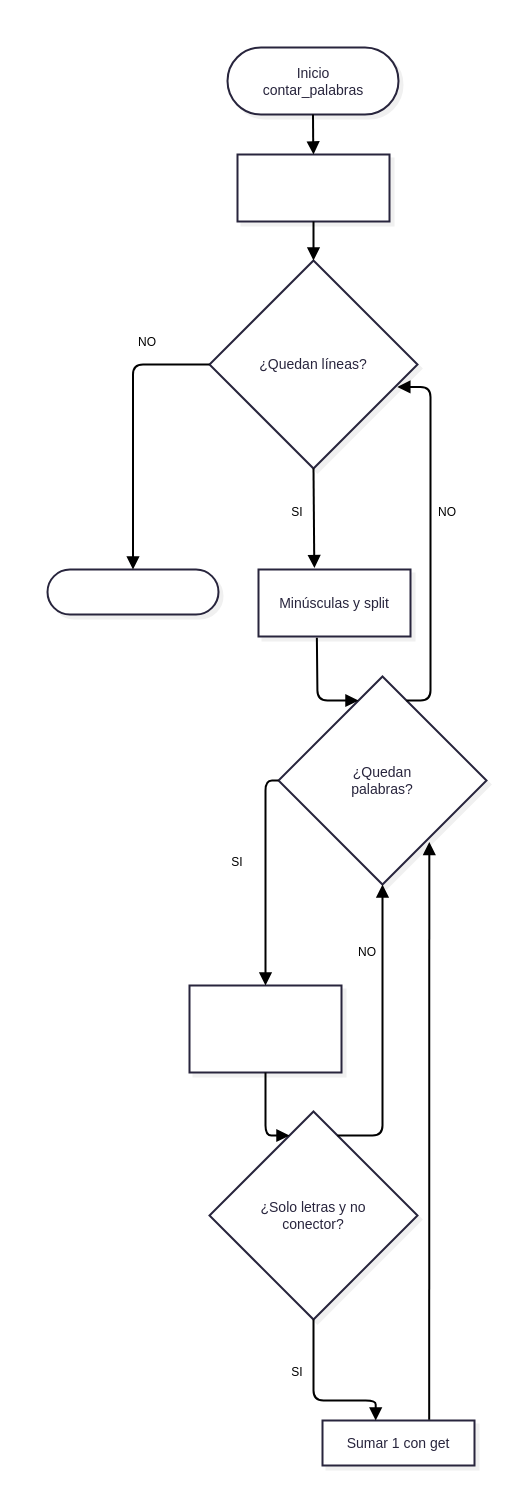
This 508x1487 diagram has some shape labels left out. The shapes that lost their labels are listed below. From the top down, each one's centre as x and y in pixels, then its label:
the point at 315,189: conteo = diccionario vacío
the point at 134,593: Retornar conteo
the point at 267,1030: Quitar puntuación (strip)
